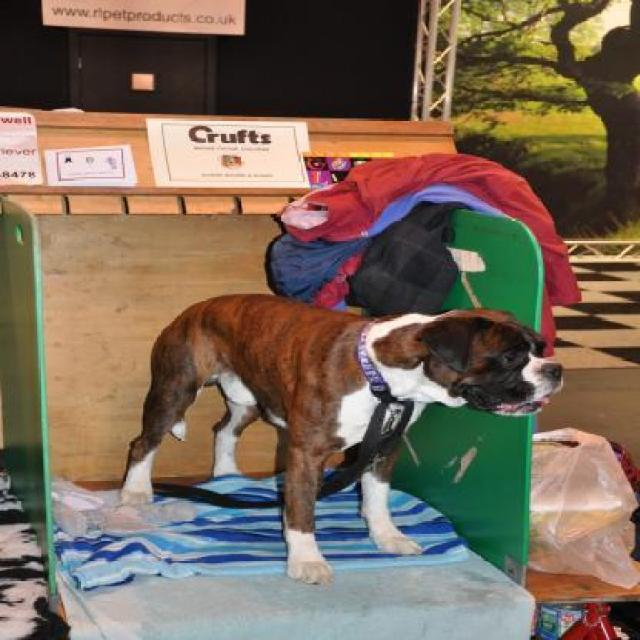plastic bag: (524, 426, 638, 586)
